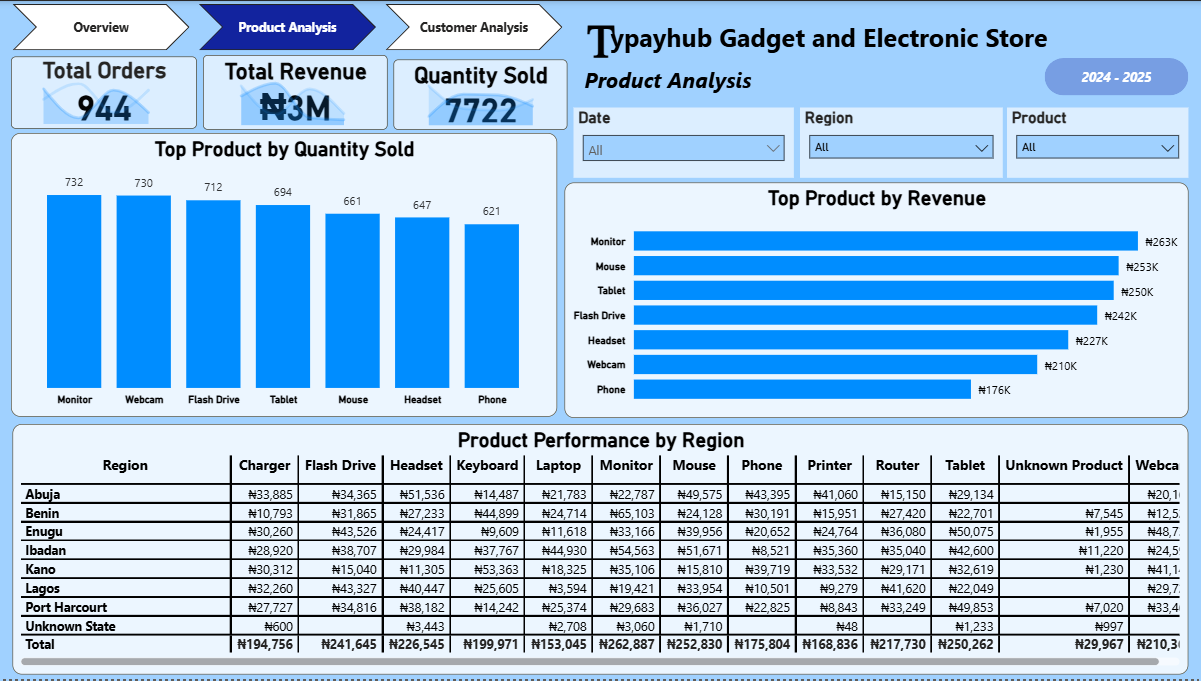

The dashboard page shown, as its layout file describes it:
{"tool":"powerbi","page":{"name":"Product Analysis","canvas":[1280,720],"ordinal":1},"visuals":[{"type":"shape","box":[613.1,2.8,666.6,106.9],"z":0},{"type":"card","title":"Total Orders","fields":{"Values":["Calender.Total Orders"]},"box":[12.7,58.9,197.5,76.5],"z":1000},{"type":"card","title":"Quantity Sold","fields":{"Values":["Calender.Total Quantity Sold"]},"box":[418.9,62.1,184.8,74.9],"z":2000},{"type":"card","title":"Total Revenue","fields":{"Values":["Calender.Total Revenue"]},"box":[216.6,57.3,195.9,79.6],"z":3000},{"type":"clusteredColumnChart","title":"Top Product by Quantity Sold","fields":{"Category":["Cleaned_Sales_Data.Product"],"Y":["Calender.Total Quantity Sold"]},"box":[12.7,140.2,579.8,301.1],"z":4000},{"type":"shape","title":"Typayhub Gadget and Electronic Store","box":[631.4,3,501.2,69.7],"z":5000},{"type":"shape","box":[618.2,59.7,184.9,48.1],"z":6000},{"type":"shape","title":"Typayhub Gadget and Electronic Store","box":[604.2,0,71.2,80.3],"z":7000},{"type":"pivotTable","title":"Product Performance by Region","fields":{"Rows":["Cleaned_Sales_Data.Region"],"Columns":["Cleaned_Sales_Data.Product"],"Values":["Calender.Total Revenue"]},"box":[14.3,449.2,1248.8,266],"z":8000},{"type":"barChart","title":"Top Product by Revenue","fields":{"Y":["Calender.Total Revenue"],"Series":["Cleaned_Sales_Data.Product"],"Category":["Cleaned_Sales_Data.Product"]},"box":[600.5,192.7,662.7,250.1],"z":9000},{"type":"pageNavigator","box":[14.3,3.2,586.2,49.4],"z":10000},{"type":"slicer","title":"Product","fields":{"Values":["Cleaned_Sales_Data.Product"]},"box":[1070.4,113.1,192.7,74.9],"z":11000},{"type":"slicer","title":"Region","fields":{"Values":["Cleaned_Sales_Data.Region"]},"box":[850.6,113.1,215,74.9],"z":12000},{"type":"slicer","title":"Date","fields":{"Values":["Cleaned_Sales_Data.Order Date"]},"box":[610.1,113.1,234.2,74.9],"z":13000},{"type":"lineChart","fields":{"Y":["Calender.Total Orders"],"Category":["Calender.Quarter"],"Series":["Calender.Year"]},"box":[27.1,73.3,151.3,62.1],"z":14000},{"type":"lineChart","fields":{"Category":["Calender.Quarter"],"Series":["Calender.Year"],"Y":["Calender.Total Revenue"]},"box":[237.3,68.5,148.1,68.5],"z":15000},{"type":"lineChart","fields":{"Category":["Calender.Quarter"],"Series":["Calender.Year"],"Y":["Calender.Total Quantity Sold"]},"box":[436.5,73.3,149.7,63.7],"z":16000},{"type":"shape","box":[1110.3,60.5,152.9,39.8],"z":17000}]}

Visuals, with their boxes in screenshot pixels (x1, y1, x2, y2), scaled from the page's 1280x720 canvas onto the 1201x681 screenshot:
shape: {"x1": 575, "y1": 3, "x2": 1200, "y2": 104}
"Total Orders" card: {"x1": 12, "y1": 56, "x2": 197, "y2": 128}
"Quantity Sold" card: {"x1": 393, "y1": 59, "x2": 566, "y2": 130}
"Total Revenue" card: {"x1": 203, "y1": 54, "x2": 387, "y2": 129}
"Top Product by Quantity Sold" clusteredColumnChart: {"x1": 12, "y1": 133, "x2": 556, "y2": 417}
"Typayhub Gadget and Electronic Store" shape: {"x1": 592, "y1": 3, "x2": 1063, "y2": 69}
shape: {"x1": 580, "y1": 56, "x2": 754, "y2": 102}
"Typayhub Gadget and Electronic Store" shape: {"x1": 567, "y1": 0, "x2": 634, "y2": 76}
"Product Performance by Region" pivotTable: {"x1": 13, "y1": 425, "x2": 1185, "y2": 676}
"Top Product by Revenue" barChart: {"x1": 563, "y1": 182, "x2": 1185, "y2": 419}
pageNavigator: {"x1": 13, "y1": 3, "x2": 563, "y2": 50}
"Product" slicer: {"x1": 1004, "y1": 107, "x2": 1185, "y2": 178}
"Region" slicer: {"x1": 798, "y1": 107, "x2": 1000, "y2": 178}
"Date" slicer: {"x1": 572, "y1": 107, "x2": 792, "y2": 178}
lineChart - Calender.Total Orders x Calender.Quarter: {"x1": 25, "y1": 69, "x2": 167, "y2": 128}
lineChart - Calender.Quarter x Calender.Year: {"x1": 223, "y1": 65, "x2": 362, "y2": 130}
lineChart - Calender.Quarter x Calender.Year: {"x1": 410, "y1": 69, "x2": 550, "y2": 130}
shape: {"x1": 1042, "y1": 57, "x2": 1185, "y2": 95}
